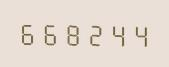eight: (62, 19, 83, 46)
four: (128, 20, 149, 48), (106, 20, 127, 47)
six: (17, 18, 38, 46), (39, 19, 60, 46)
two: (84, 19, 105, 47)
